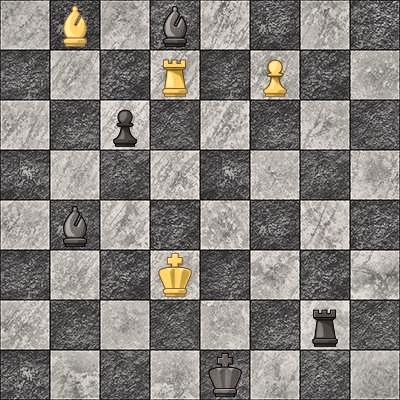black-bishop: (150, 0, 200, 50), (50, 200, 100, 250)
black-king: (200, 350, 250, 400)
black-pawn: (100, 100, 150, 150)
black-rook: (300, 300, 350, 350)
white-bishop: (50, 0, 100, 50)
white-king: (150, 250, 200, 300)
white-pawn: (250, 50, 300, 100)
white-rook: (150, 50, 200, 100)
